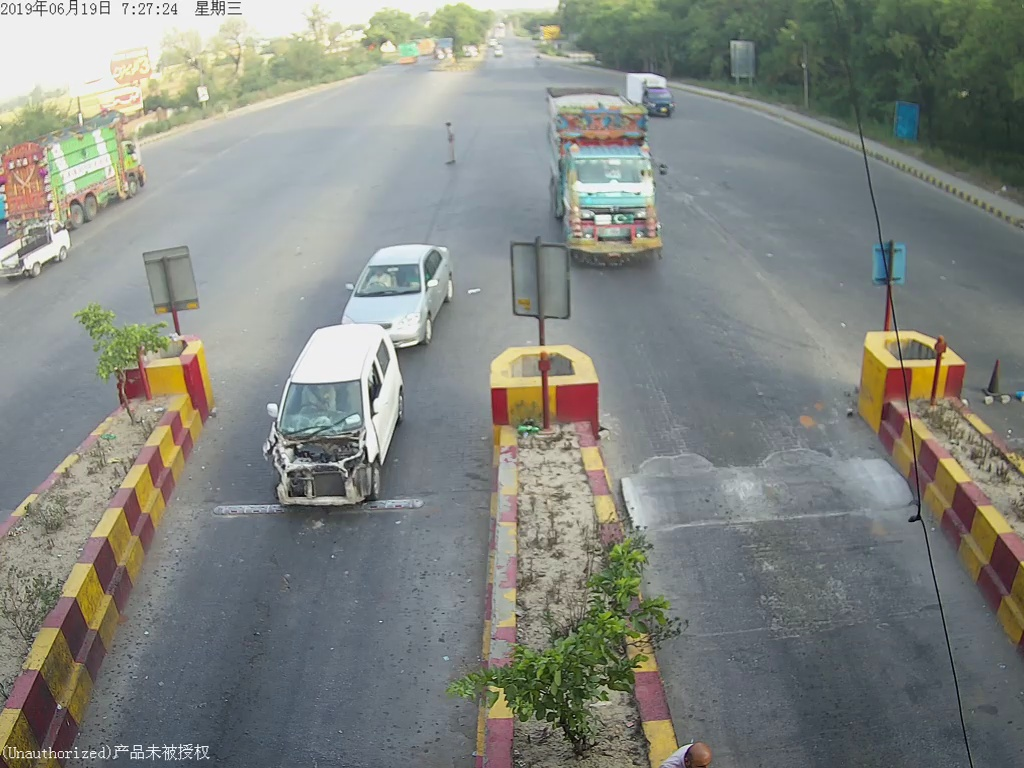Cat-1: (264, 328, 415, 514), (333, 241, 467, 324)
Cat-4: (548, 84, 674, 271)
